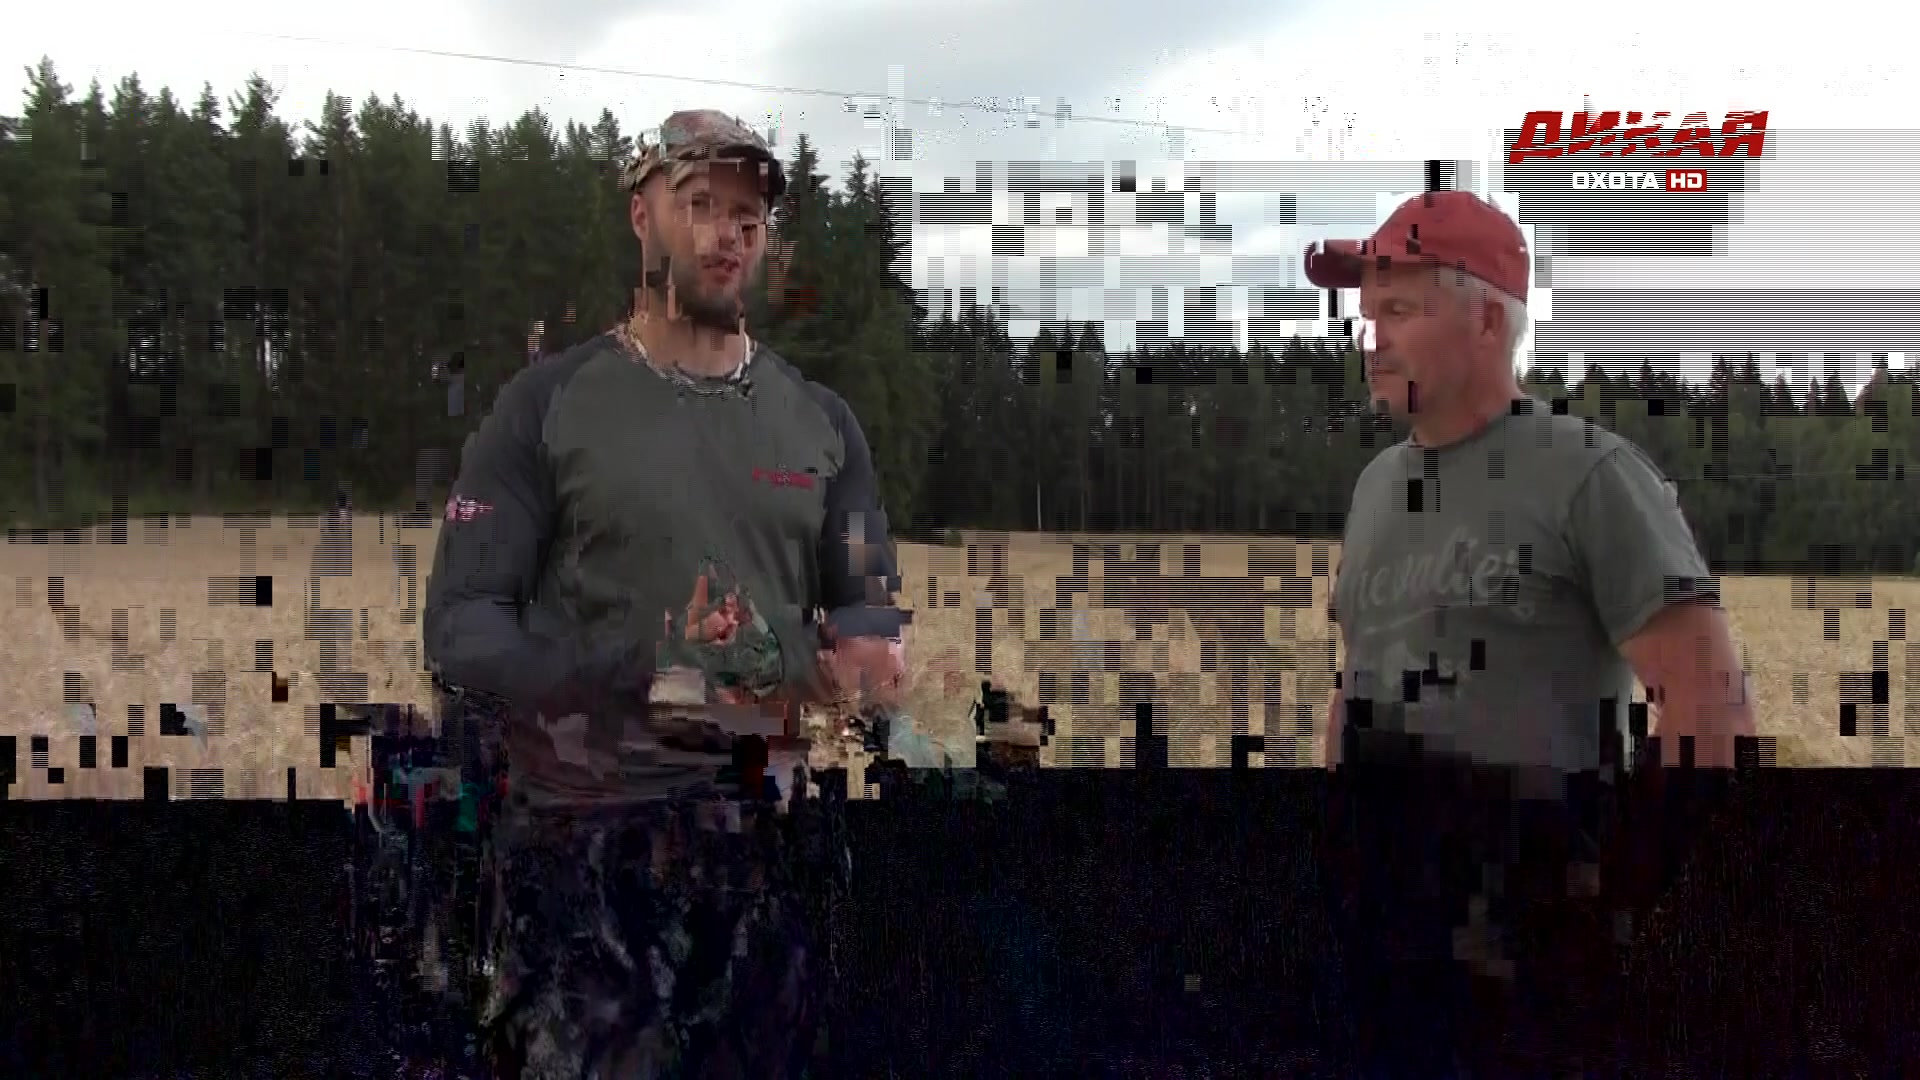Dikaya_Ohota_HD: (1507, 105, 1774, 196)
